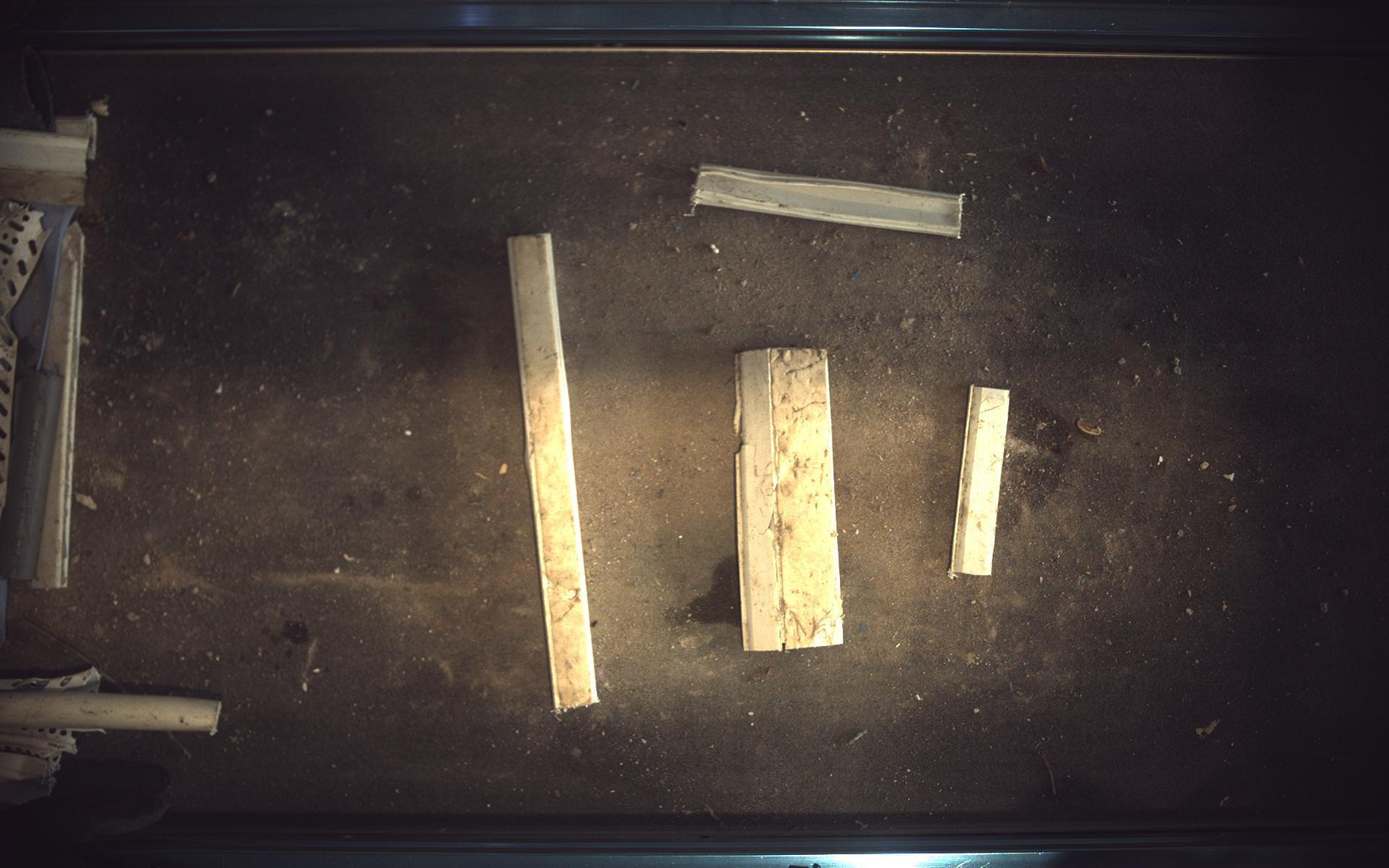plastic: (736, 348, 845, 652), (692, 163, 965, 237), (951, 385, 1012, 579)
